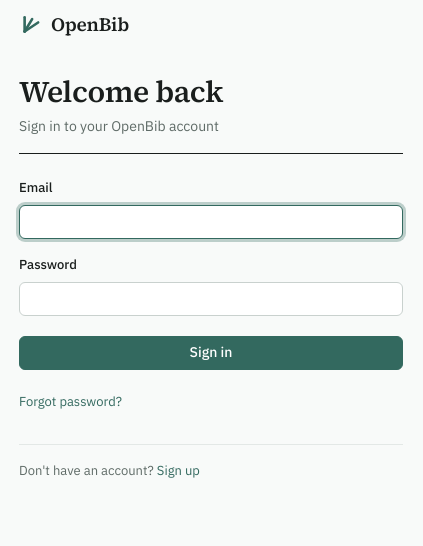
Test: sign-in page › announces a failed sign-in
Type "reader@example.com" into the field labelled "Email". click: (211, 222)
box: [19,205,403,239]
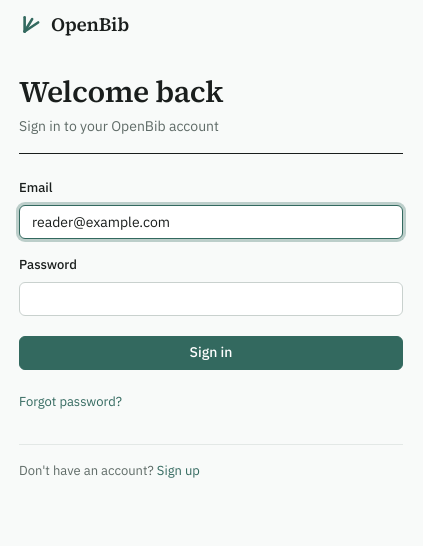
Type "a sufficiently long password" into the password field labelled "Password". click: (211, 299)
box: [19,282,403,316]
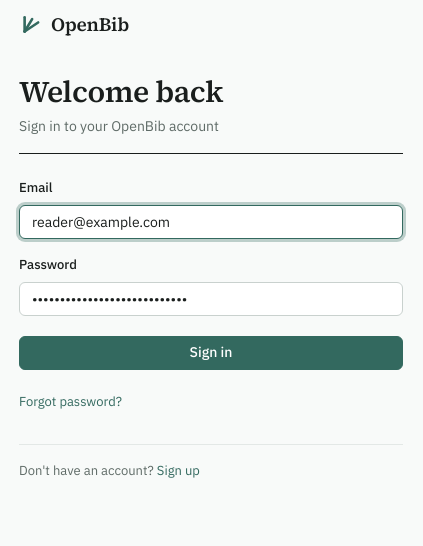
Click the button "Sign in". click: (211, 353)
box: [19,336,403,370]
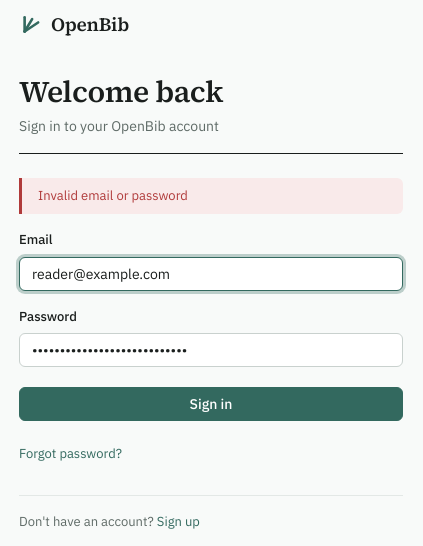
Check: the message reads "Invalid email or password", box [38,187,188,204]
